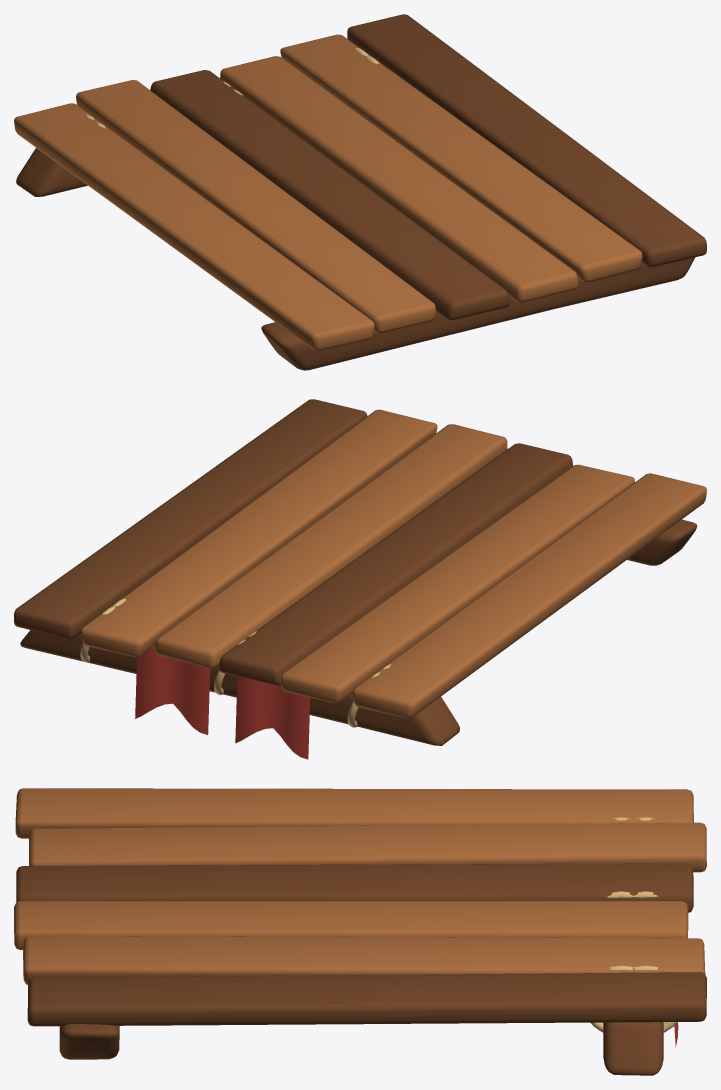
The model's file is SD_G15_PalmTimber_Platform.fbx.
The picture shows the model from 3 angles, top to bottom: view 1: azimuth 30°, elevation 25°; view 2: azimuth 150°, elevation 25°; view 3: azimuth 270°, elevation 25°; orthographic projection. The views are drawn at different scales.
Visible parts, largest first — view 1: SD_G15_PalmTimber_Platform; view 2: SD_G15_PalmTimber_Platform; view 3: SD_G15_PalmTimber_Platform.
Boxes of the visible parts, x1=… form: SD_G15_PalmTimber_Platform: x1=14, y1=14, x2=706, y2=370; SD_G15_PalmTimber_Platform: x1=14, y1=399, x2=706, y2=759; SD_G15_PalmTimber_Platform: x1=14, y1=788, x2=706, y2=1075.
Size of the model in its own units: 317 by 67.05 by 395.
